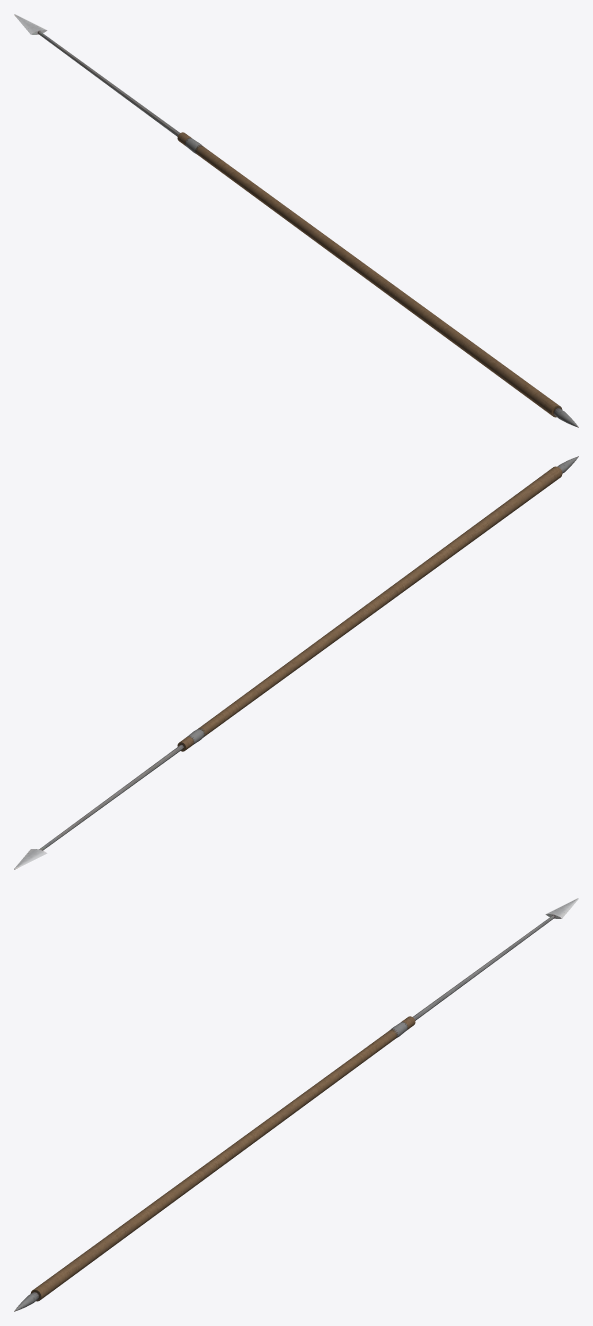
The model's file is angon.glb.
3 views of the same model, one above another, from view 1: azimuth 30°, elevation 25°; view 2: azimuth 150°, elevation 25°; view 3: azimuth 330°, elevation 25° (orthographic).
Visible parts, largest first — view 1: angon; view 2: angon; view 3: angon.
Part boxes in pixels (x1,y1,x2,y2): angon: [14, 14, 578, 427]; angon: [14, 456, 578, 869]; angon: [14, 898, 578, 1311].
Bounding box in the file's own units: 0.048 × 0.0302 × 2.77.
1 material, 1 textured.
